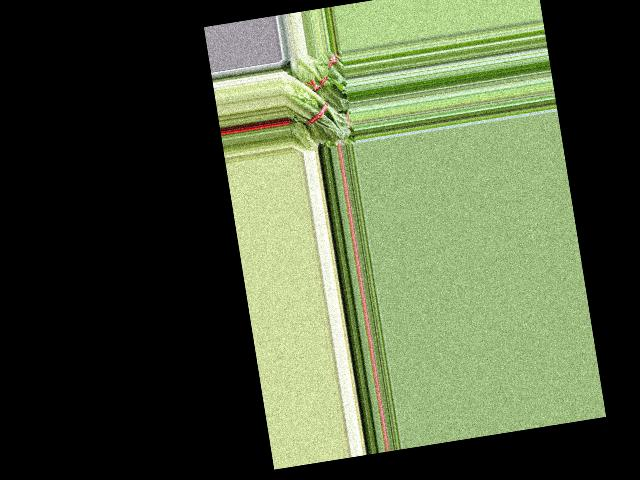lettuce: (280, 63, 352, 149)
